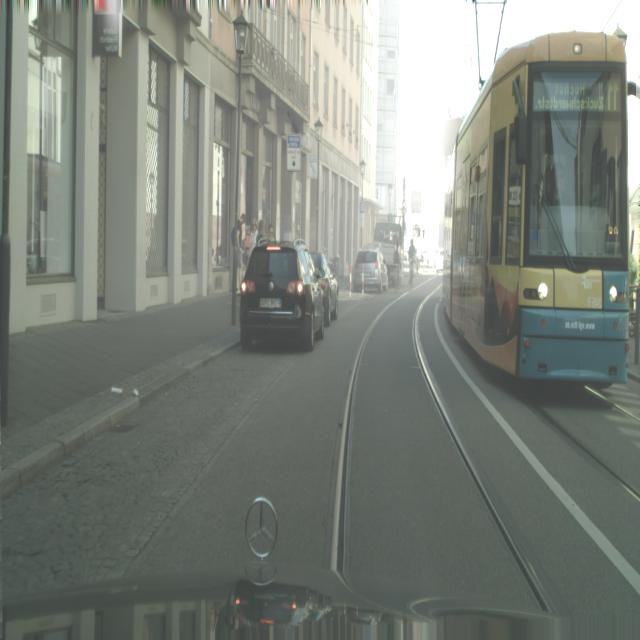bicycle: (442, 31, 630, 389)
car: (393, 236, 402, 290)
person: (230, 218, 243, 302), (408, 238, 417, 284), (266, 225, 277, 244)
truck: (239, 241, 325, 352), (310, 251, 339, 322), (352, 247, 388, 294), (434, 248, 444, 273)
